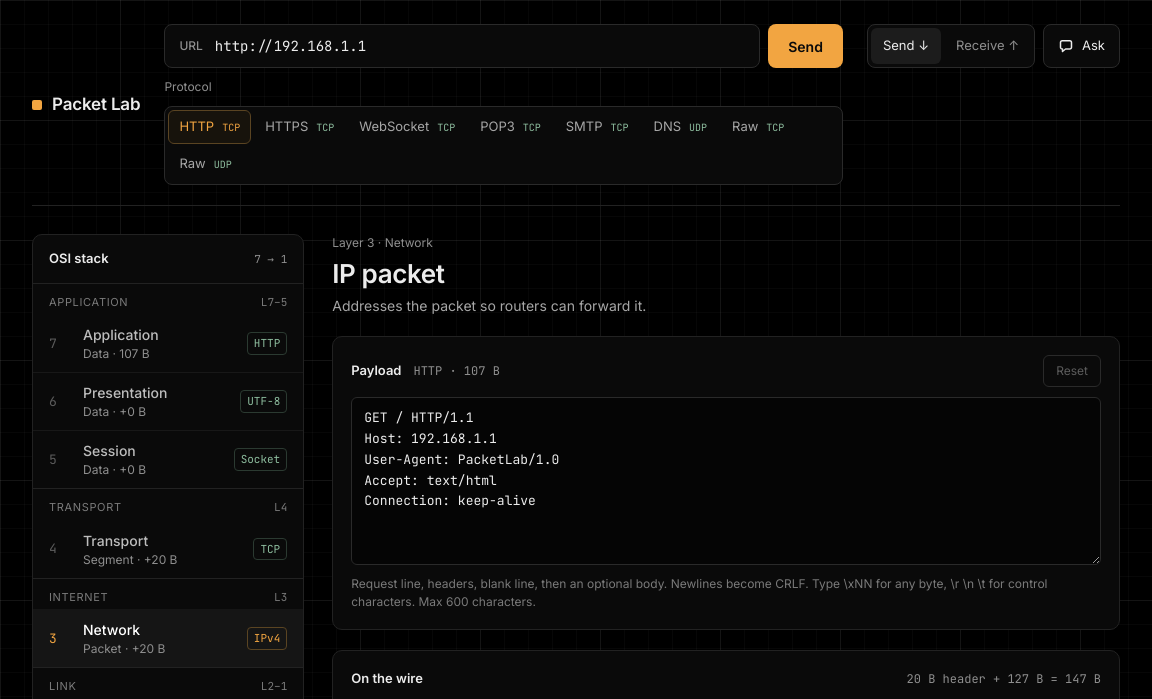
it: Chat panel › shows the step being viewed as the context, live
Click the button "Ask" at (1082, 46), box [1043, 24, 1120, 68]
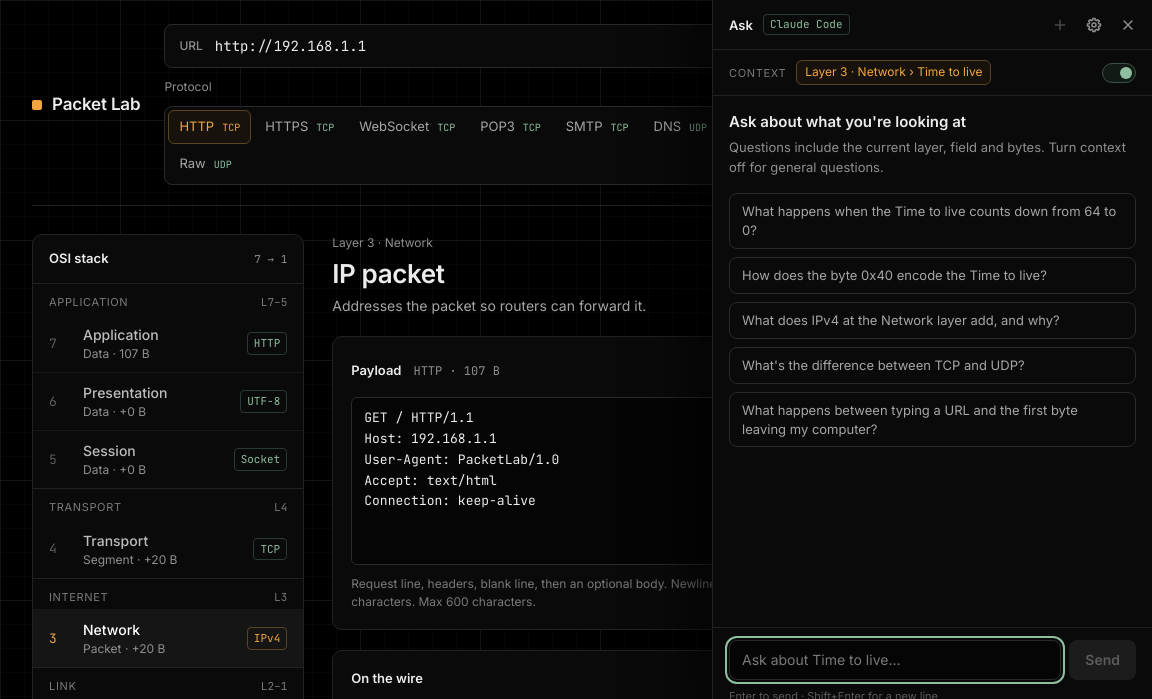
expect the text "Layer 3 · Network › Time to live" is shown: met, box [796, 60, 992, 85]
Click the button "4 Transport Segment · +20 B TCP" at (168, 548), box [33, 520, 303, 578]
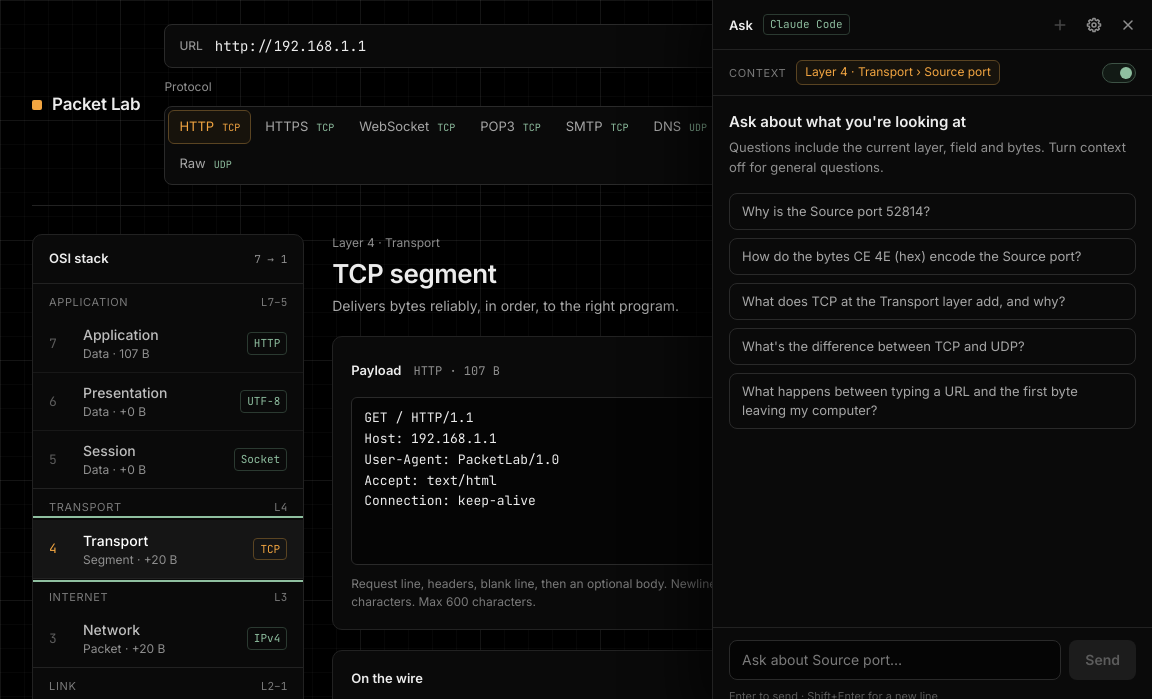
expect the text "Layer 4 · Transport › Source port" is shown: met, box [796, 60, 1000, 85]
Click the switch named "Include current step" at (1119, 73), box [1102, 63, 1136, 83]
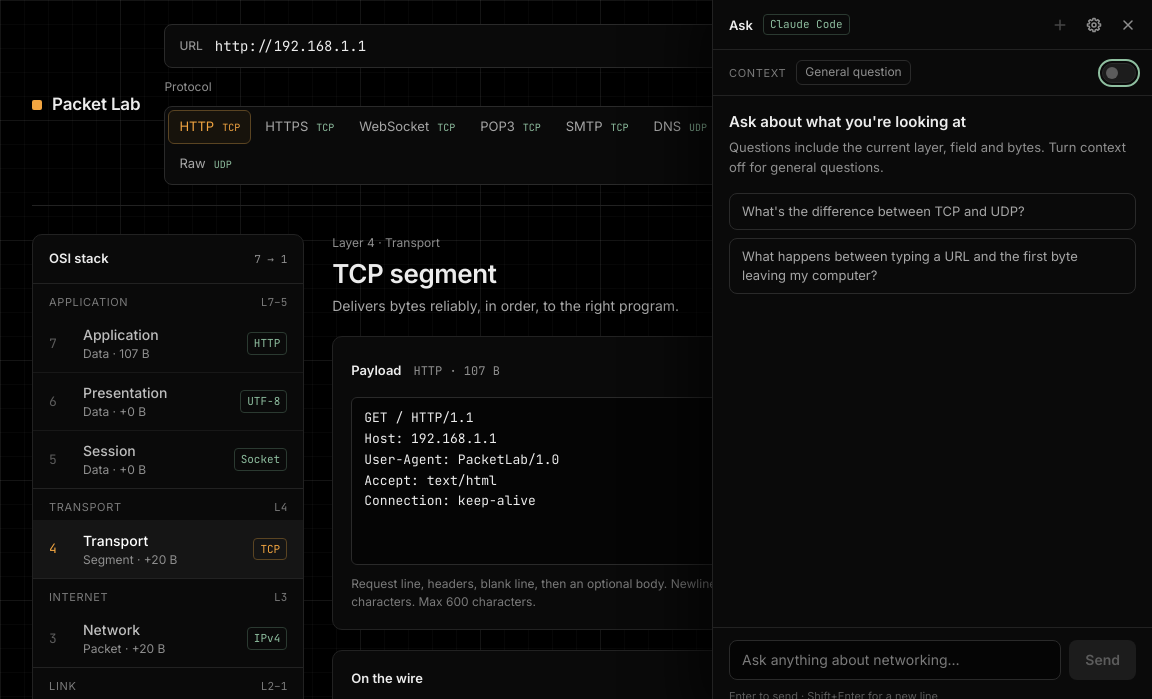
expect the text "General question" is shown: met, box [796, 60, 911, 85]
